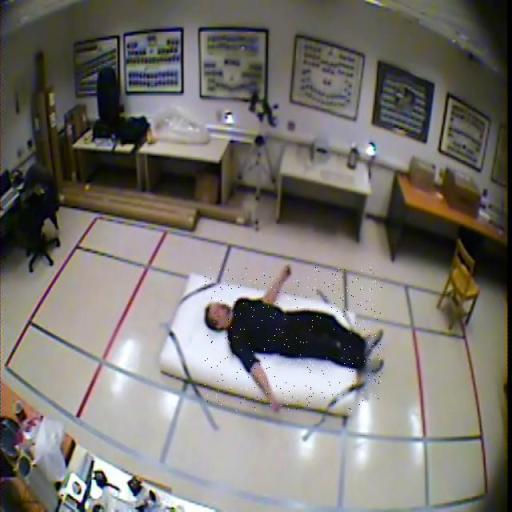Fall: (204, 268, 382, 412)
